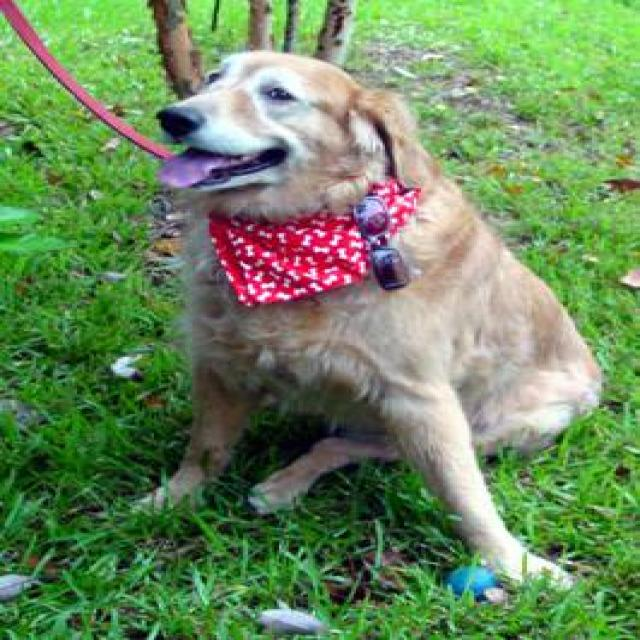dog: (127, 49, 604, 594)
